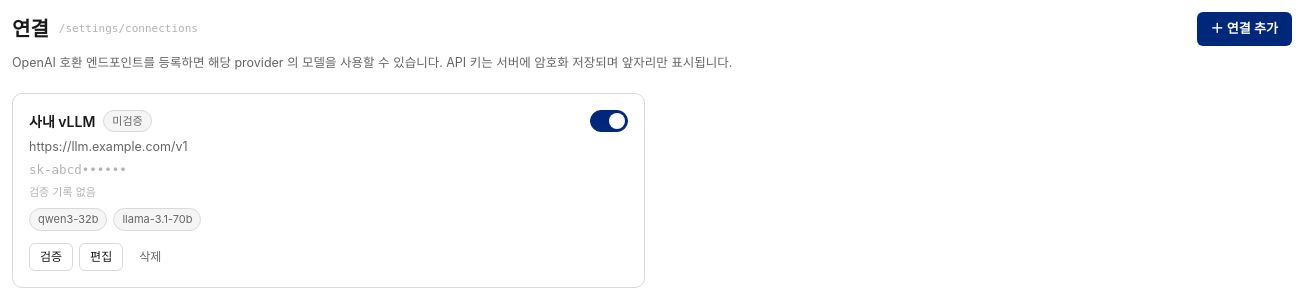
Test: ConnectionsManager › (c) 검증 버튼을 누르면 POST verify 후 검증됨 뱃지로 갱신된다
Expected: the text with test id "connection-verify-badge-conn-1" reads "미검증", [112, 114, 143, 128]
Click the button with aria-label "검증: 사내 vLLM". click: (51, 257)
box: [29, 243, 73, 271]
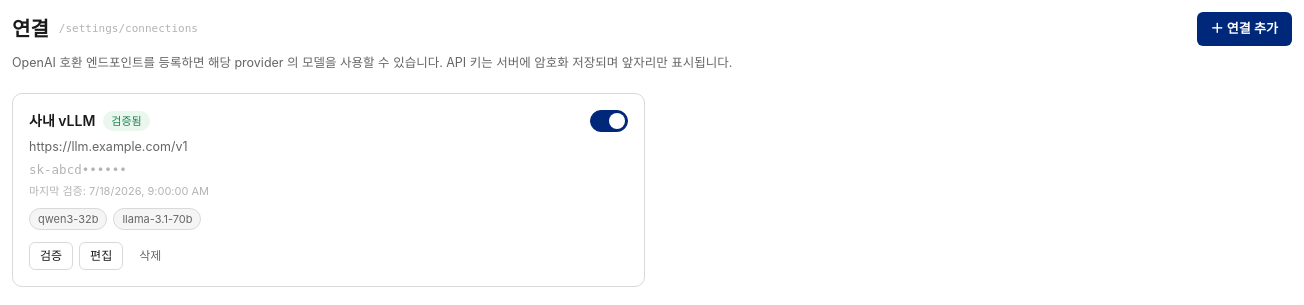
Expected: the text with test id "connection-verify-badge-conn-1" reads "검증됨", [111, 114, 142, 128]
